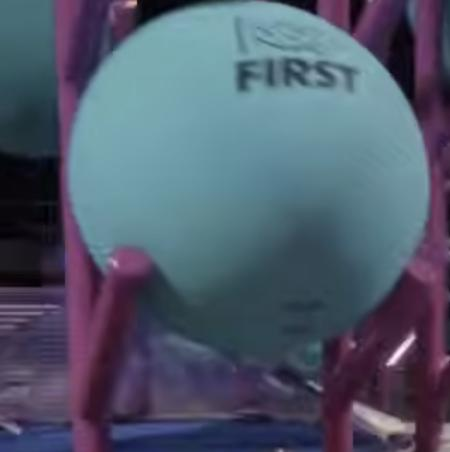algae: (69, 1, 429, 352), (0, 0, 111, 154), (406, 0, 450, 71)
